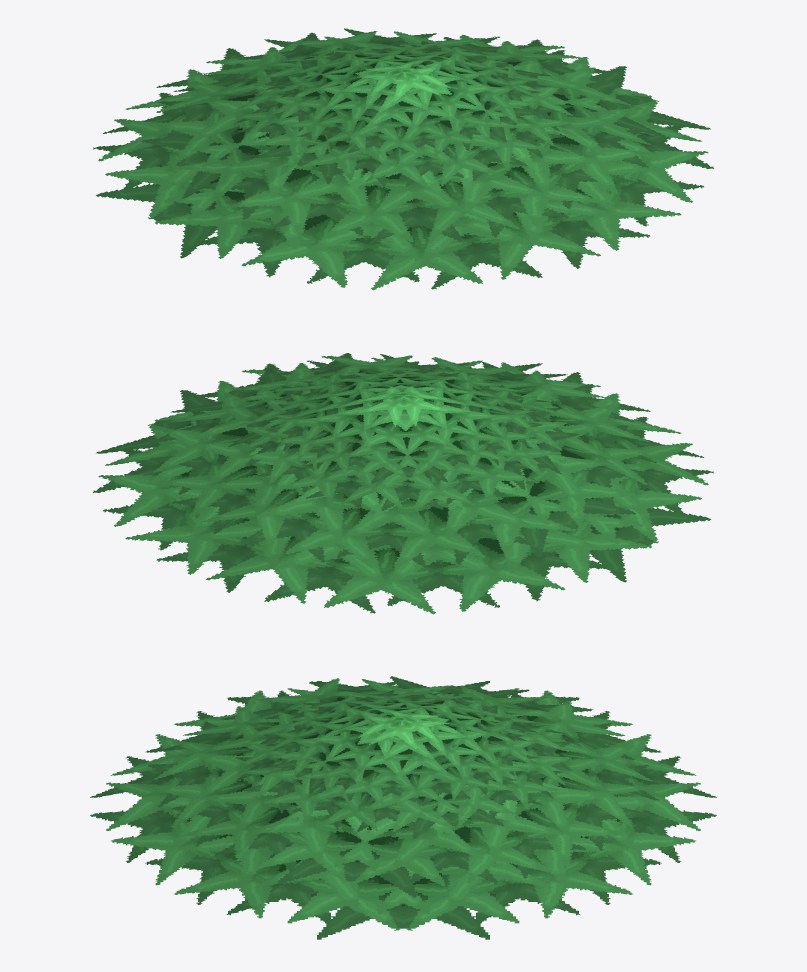
Rendered from LeafPile.glb.
3 renders of one model, top to bottom at view 1: azimuth 30°, elevation 25°; view 2: azimuth 150°, elevation 25°; view 3: azimuth 270°, elevation 25°, orthographic.
Parts seen in each view (by area): view 1: Plane; view 2: Plane; view 3: Plane.
Boxes of the visible parts, x1,y1,x2,y2 form: Plane: (93, 28, 713, 290); Plane: (93, 353, 713, 614); Plane: (90, 676, 716, 939).
Size of the model in its own units: 1.73 by 0.27 by 2.
Materials: 1 (1 with a texture image).
